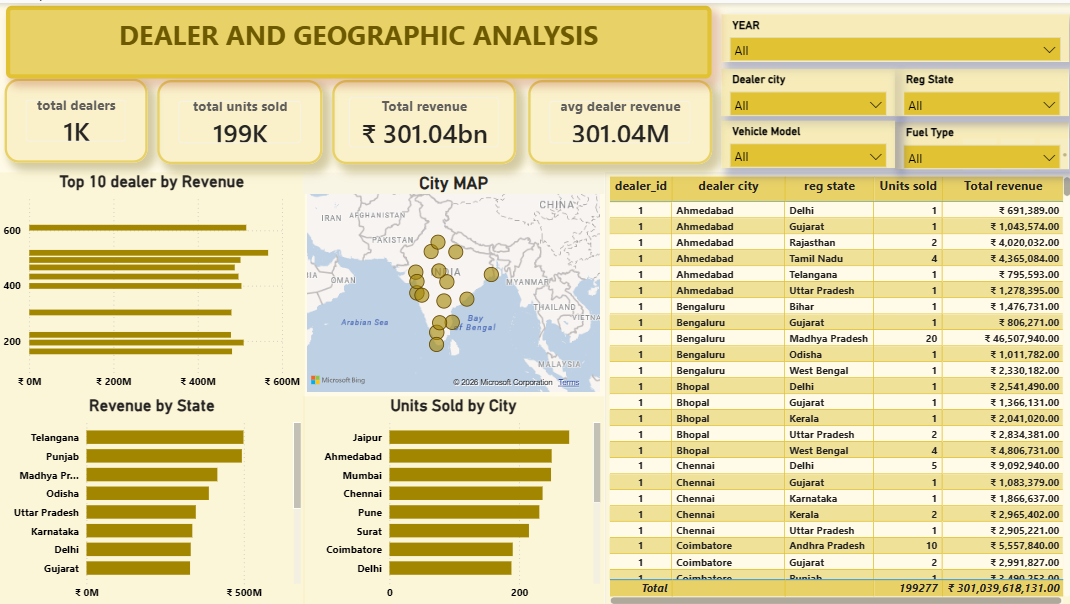

This screenshot's page, from the dashboard's own definition file:
{"tool":"powerbi","page":{"name":"dealer analysis","canvas":[1280,720],"ordinal":2},"visuals":[{"type":"cardVisual","fields":{"Data":["date_table.total dealers"]},"box":[6.7,90,170,100],"z":0},{"type":"barChart","title":"Top 10 dealer by Revenue","fields":{"Y":["date_table.Total revenue"],"Category":["sales_details.dealer_id"]},"box":[0,201.7,363.3,266.7],"z":1000},{"type":"barChart","title":"Units Sold by City","fields":{"Y":["date_table.total units sold"],"Category":["sales_details.dealer_city"]},"box":[361.7,468.3,358.3,251.7],"z":2000},{"type":"barChart","title":"Revenue by State","fields":{"Y":["date_table.Total revenue"],"Category":["sales_details.reg_state"]},"box":[0,468.3,363.3,251.7],"z":3000},{"type":"map","title":"City MAP","fields":{"Size":["date_table.total units sold"],"Category":["sales_details.dealer_city"]},"box":[361.7,201.7,358.3,266.7],"z":4000},{"type":"tableEx","fields":{"Values":["sales_details.dealer_id","sales_details.dealer_city","sales_details.reg_state","date_table.total units sold","date_table.Total revenue"]},"box":[720,201.7,558.3,518.3],"z":5000},{"type":"slicer","title":"year","fields":{"Values":["date_table.year"]},"box":[858.3,13.3,413.3,56.7],"z":6000},{"type":"cardVisual","fields":{"Data":["date_table.total units sold"]},"box":[188.3,91.7,196.7,100],"z":7000},{"type":"cardVisual","fields":{"Data":["date_table.Total revenue"]},"box":[396.7,91.7,218.3,100],"z":8000},{"type":"cardVisual","fields":{"Data":["date_table.avg dealer revenue"]},"box":[628.3,91.7,218.3,100],"z":9000},{"type":"slicer","title":"year","fields":{"Values":["vehicle_info.fuel_type"]},"box":[1065,141.7,206.7,56.7],"z":10000},{"type":"slicer","title":"year","fields":{"Values":["sales_details.dealer_city"]},"box":[858.3,78.3,206.7,56.7],"z":11000},{"type":"slicer","title":"year","fields":{"Values":["sales_details.reg_state"]},"box":[1065,78.3,206.7,56.7],"z":12000},{"type":"slicer","title":"year","fields":{"Values":["sales_details.vehicle_model"]},"box":[858.3,140,206.7,56.7],"z":13000},{"type":"textbox","box":[8.3,3.3,838.6,86.5],"z":14000}]}

Visuals, with their boxes in screenshot pixels (x1, y1, x2, y2), scaled from the page's 1280x720 canvas onto the 1070x604 screenshot:
cardVisual - date_table.total dealers: bbox(6, 76, 148, 159)
"Top 10 dealer by Revenue" barChart: bbox(0, 169, 304, 393)
"Units Sold by City" barChart: bbox(302, 393, 602, 603)
"Revenue by State" barChart: bbox(0, 393, 304, 603)
"City MAP" map: bbox(302, 169, 602, 393)
tableEx - sales_details.dealer_id x sales_details.dealer_city: bbox(602, 169, 1069, 603)
"year" slicer: bbox(717, 11, 1063, 59)
cardVisual - date_table.total units sold: bbox(157, 77, 322, 161)
cardVisual - date_table.Total revenue: bbox(332, 77, 514, 161)
cardVisual - date_table.avg dealer revenue: bbox(525, 77, 708, 161)
"year" slicer: bbox(890, 119, 1063, 166)
"year" slicer: bbox(717, 66, 890, 113)
"year" slicer: bbox(890, 66, 1063, 113)
"year" slicer: bbox(717, 117, 890, 165)
textbox: bbox(7, 3, 708, 75)
